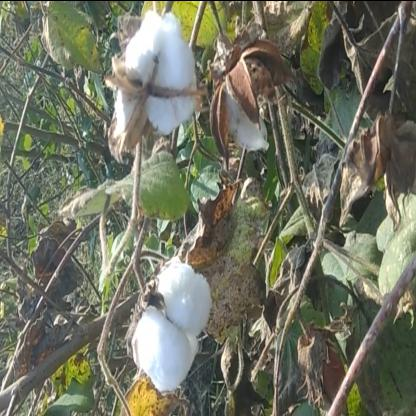cotton_ready: (100, 15, 216, 162), (119, 238, 231, 389)
